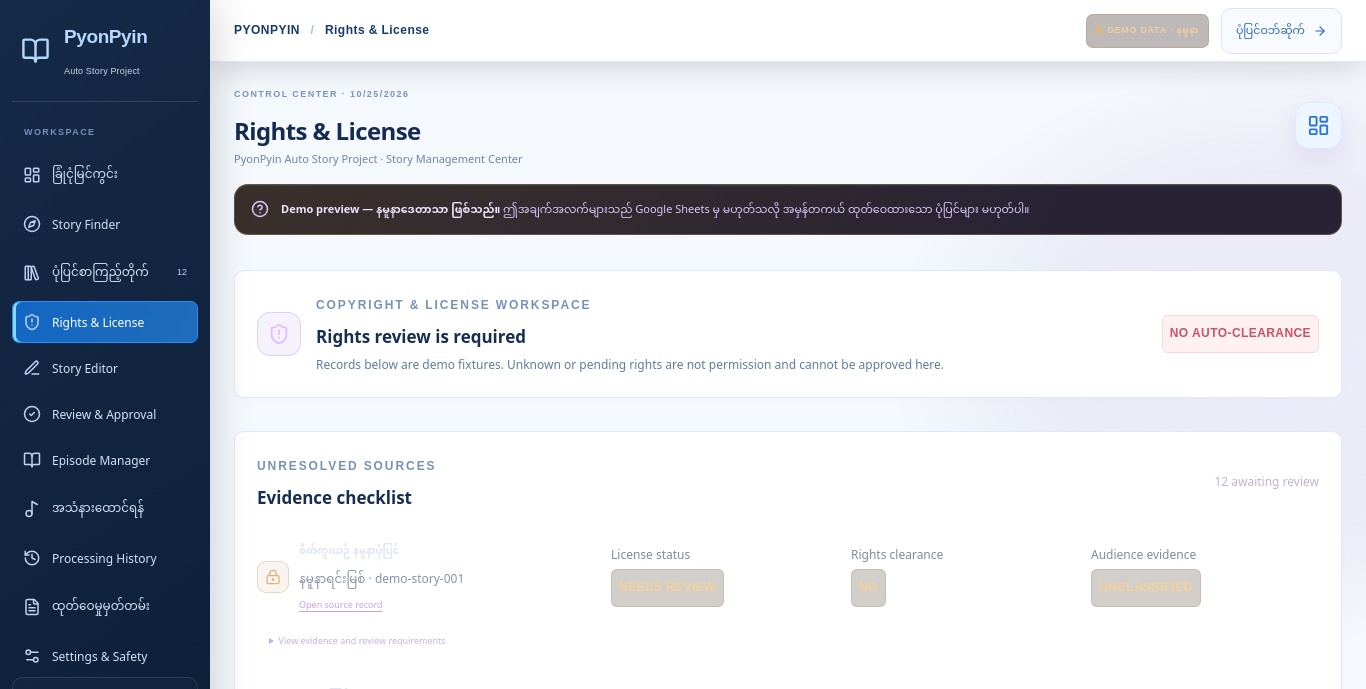
Test: PyonPyin frontend › navigates to rights and episode management without auto-clearing rights
Expected: the heading "Rights review is required" is shown, 316,325 -> 526,348
Expected: the text "NO AUTO-CLEARANCE" is shown, 1162,315 -> 1319,353
Click the button "Episode Manager": x=105, y=460 12,439 -> 198,481
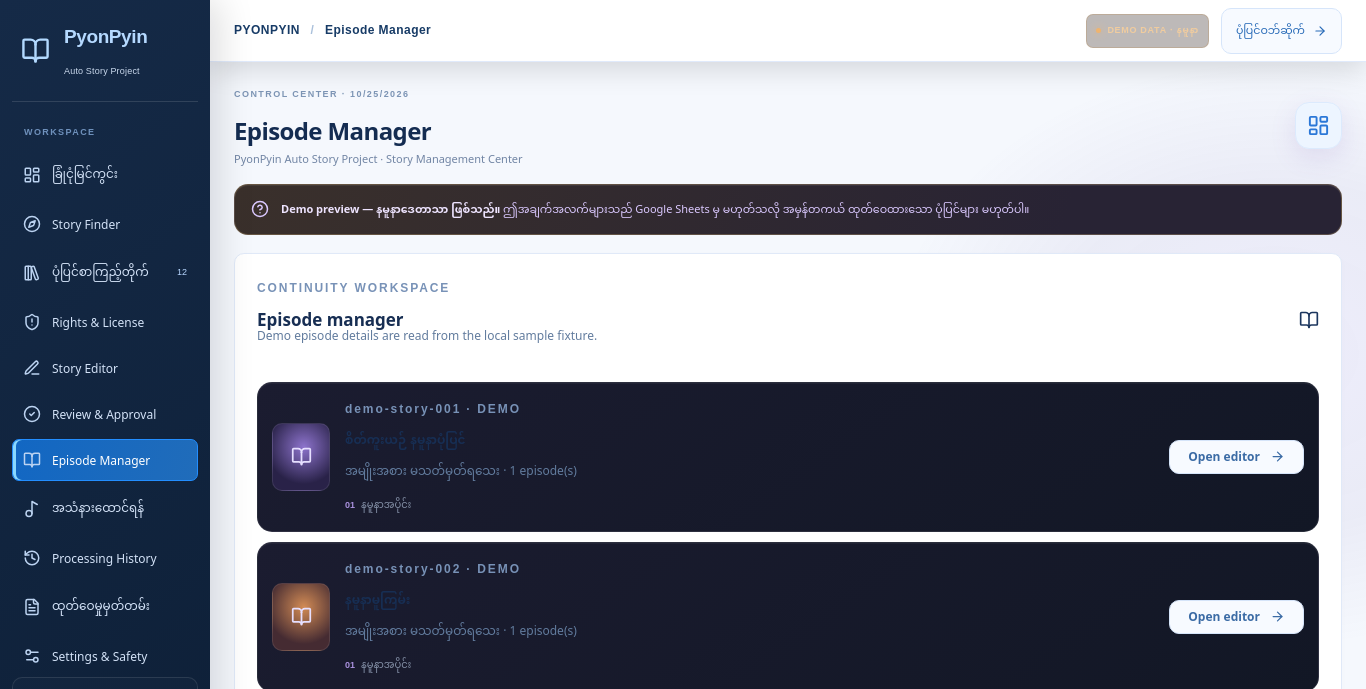
Result: the heading "Episode manager" is shown at 257,308 -> 404,331
Click the button "Open editor" in the row of "စိတ်ကူးယဉ် နမူနာပုံပြင်": x=1237, y=457 1169,440 -> 1304,474
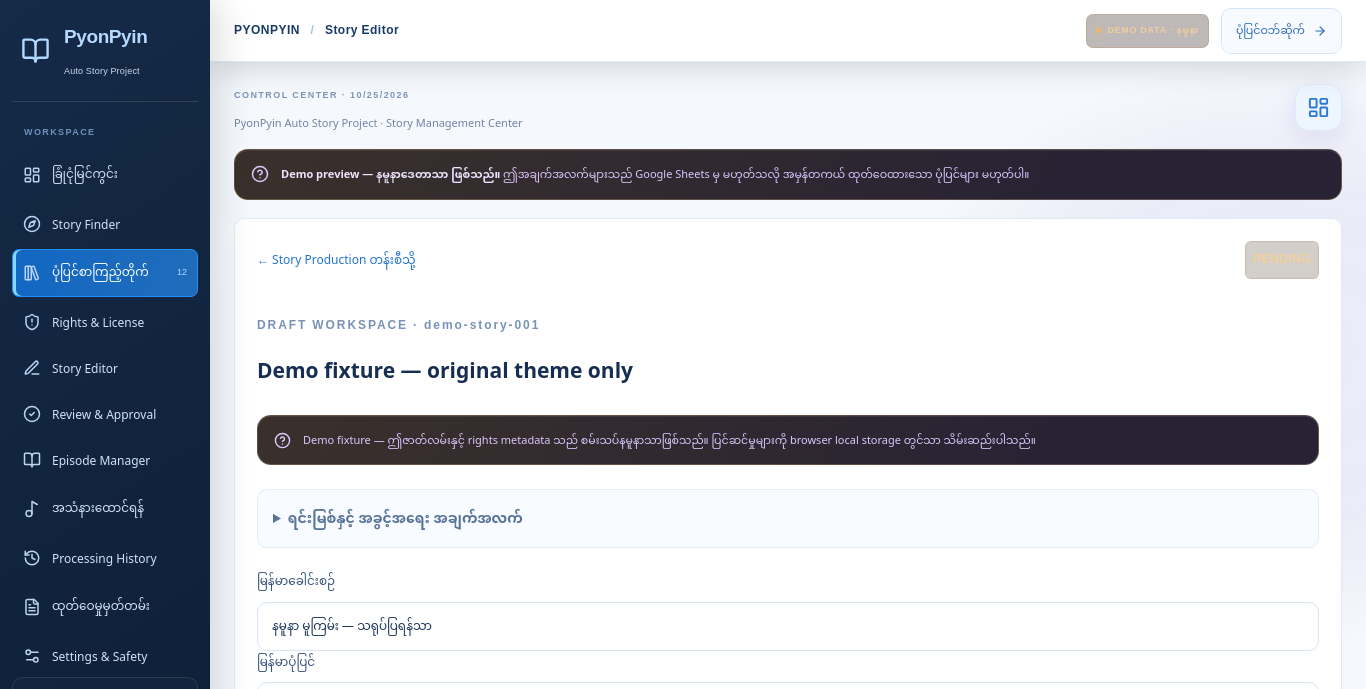
Result: the field labelled "မြန်မာခေါင်းစဉ်" is shown at 257,602 -> 1319,651
